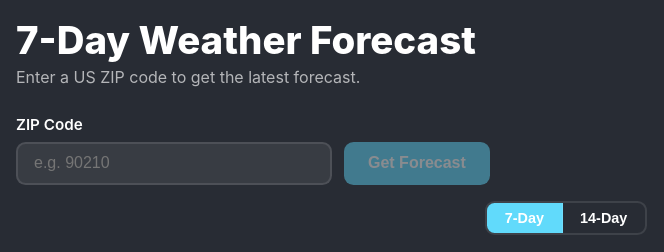
Scenario: WeatherPage › clicking 14-Day updates the title and toggles aria-pressed
This screenshot has width=664, height=252.
Click the button "14-Day". click: (604,218)
box: [562,202,645,233]
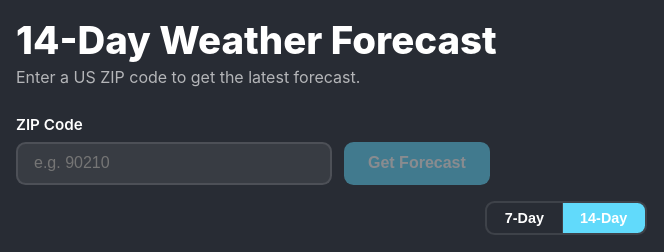
Expected: the heading "14-Day Weather Forecast" is shown, [16,17,497,63]
